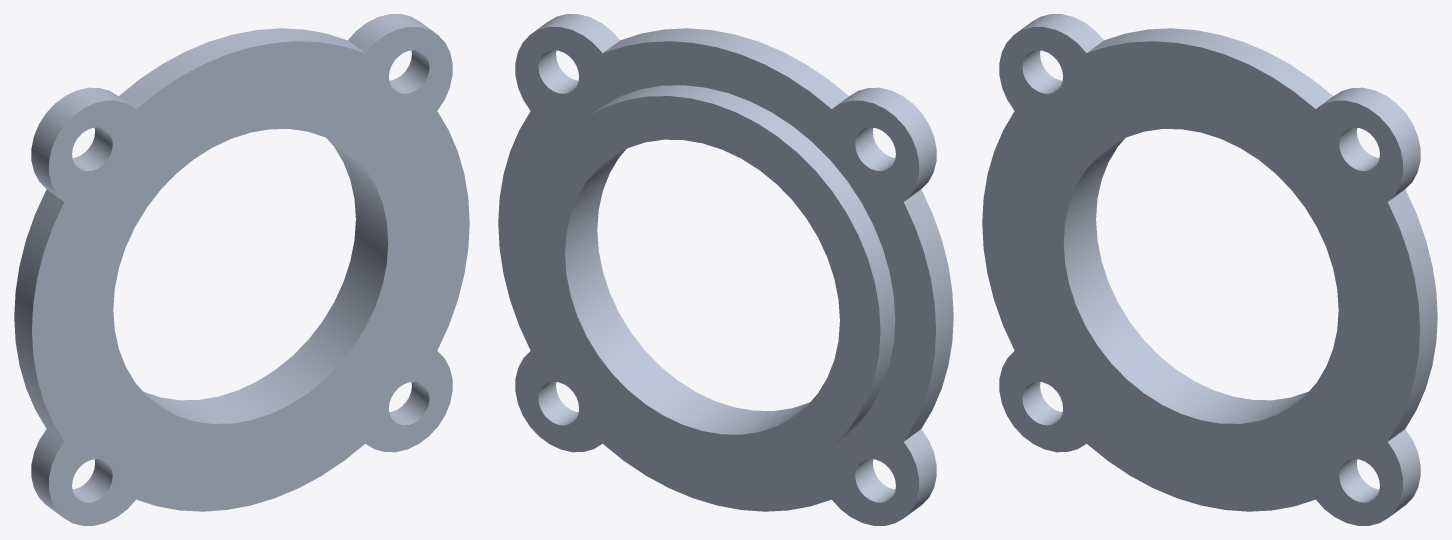
File: UA_26EV_Gearbox__UA_26EV_End_Cap_Rev2_Small_1.dae
The picture shows the model from 3 angles, left to right: view 1: azimuth 30°, elevation 25°; view 2: azimuth 150°, elevation 25°; view 3: azimuth 330°, elevation 25°; orthographic projection.
Parts seen in each view (by area): view 1: node0; view 2: node0; view 3: node0.
Boxes of the visible parts, bbox=[...] form: node0: bbox=[14, 14, 469, 525]; node0: bbox=[498, 14, 953, 525]; node0: bbox=[982, 14, 1437, 525].
Bounding box in the file's own units: 0.043 × 0.043 × 0.0055.
